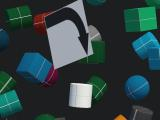Right: (44, 0, 94, 70)
